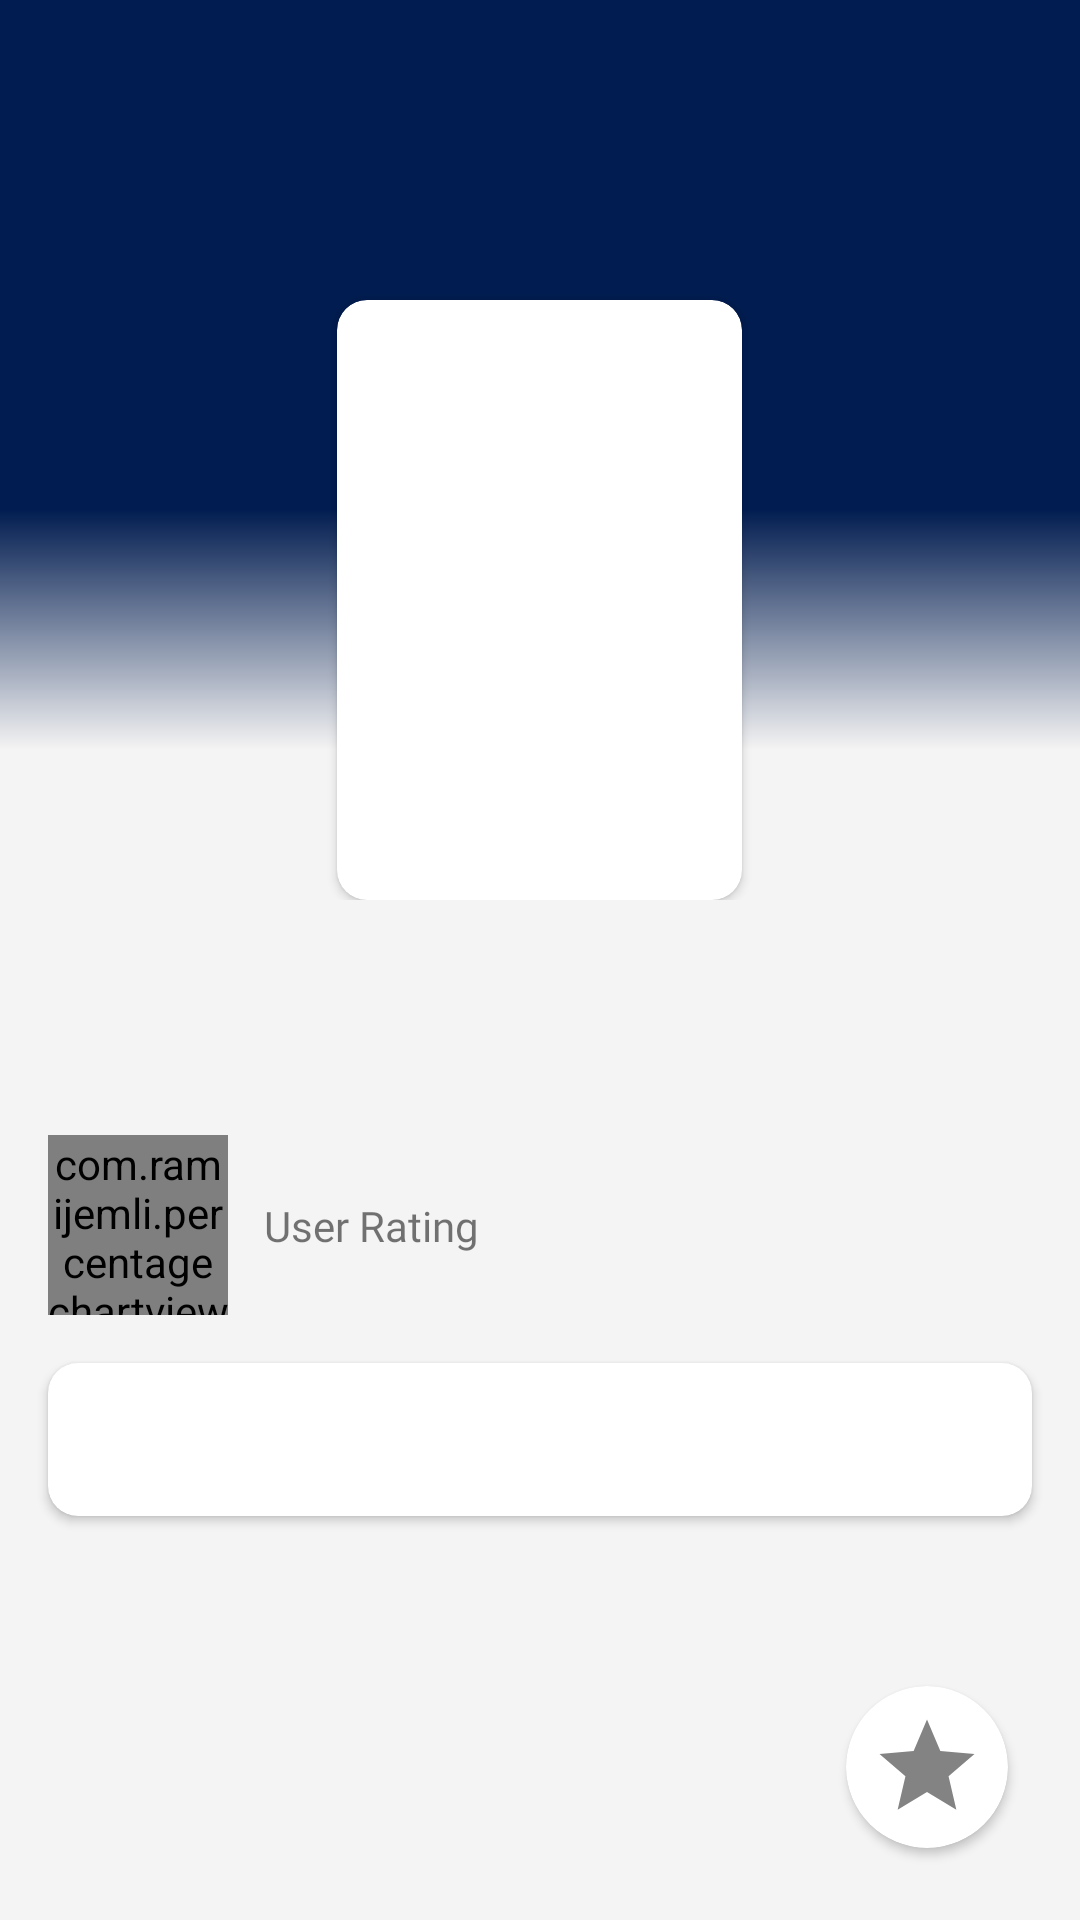

Icons on this 1080px x 1920px Android screen, each with the point to tap as [x,y]:
fav toggle: [927,1765]
